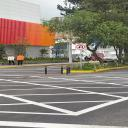NoVirarU: (72, 41, 90, 52)
